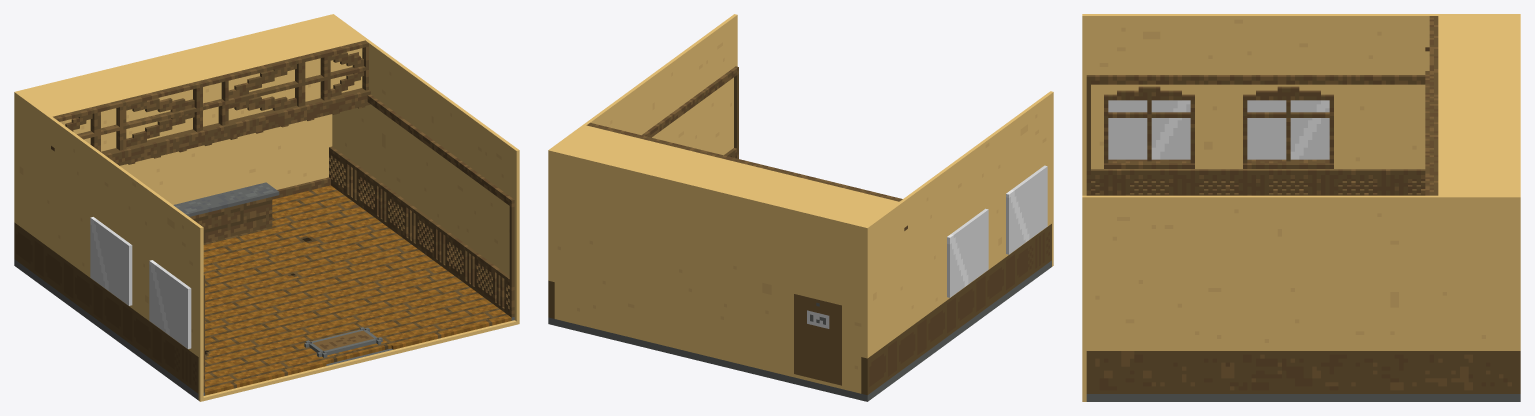
The model's file is Room_nowall.obj.
The picture shows the model from 3 angles, left to right: view 1: azimuth 30°, elevation 25°; view 2: azimuth 150°, elevation 25°; view 3: azimuth 270°, elevation 25°; orthographic projection. The views are drawn at different scales.
Size of the model in its own units: 10.1 by 5.2 by 10.1.
1 material, 1 textured.
